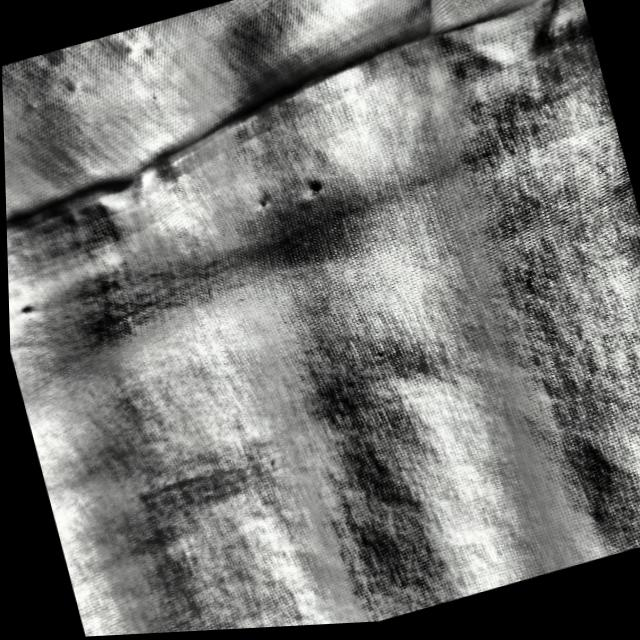Hole: (7, 287, 48, 325), (247, 184, 284, 217), (296, 177, 329, 206)
